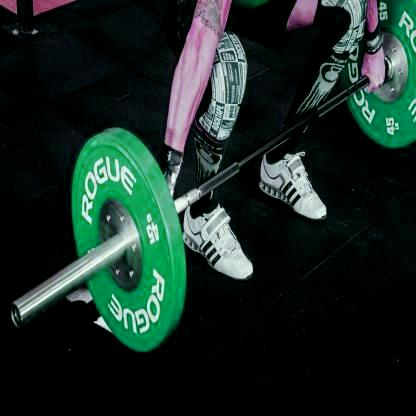barbell: (72, 134, 177, 354), (340, 1, 416, 151)
